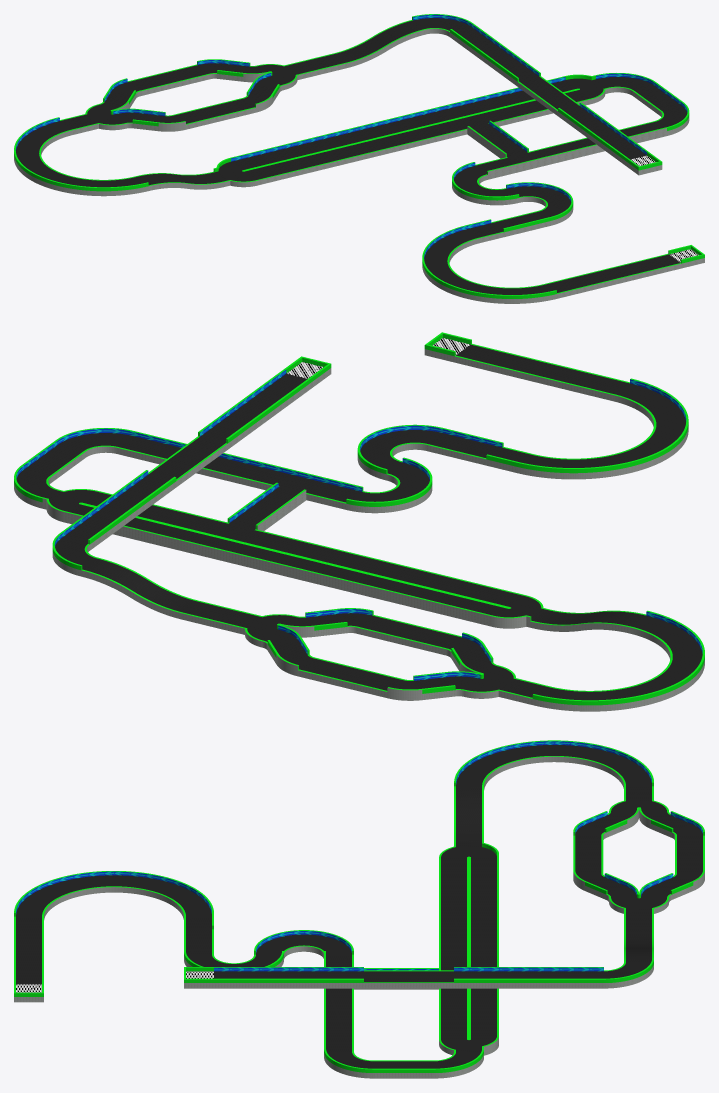
Rendered from track_basic3.dae.
The picture shows the model from 3 angles, top to bottom: view 1: azimuth 30°, elevation 25°; view 2: azimuth 150°, elevation 25°; view 3: azimuth 270°, elevation 25°; orthographic projection. The views are drawn at different scales.
Parts seen in each view (by area): view 1: SketchUp (×8); view 2: SketchUp (×8); view 3: SketchUp (×9).
Part boxes in pixels (x1,y1,x2,y2): SketchUp (×8): (14, 14, 704, 303); SketchUp (×8): (14, 332, 704, 711); SketchUp (×9): (14, 740, 704, 1078).
Bounding box in the file's own units: 29156 × 27199 × 1790.
